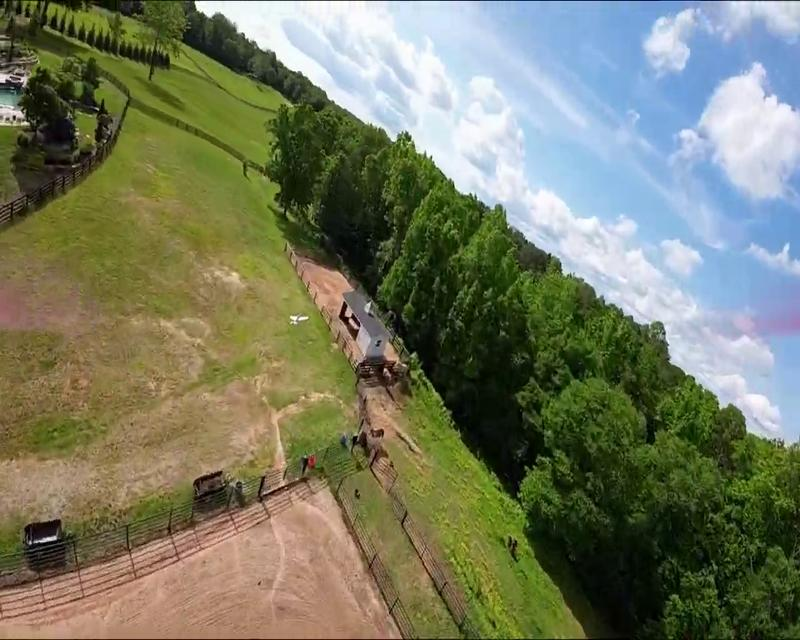UAV: (289, 312, 308, 324)
